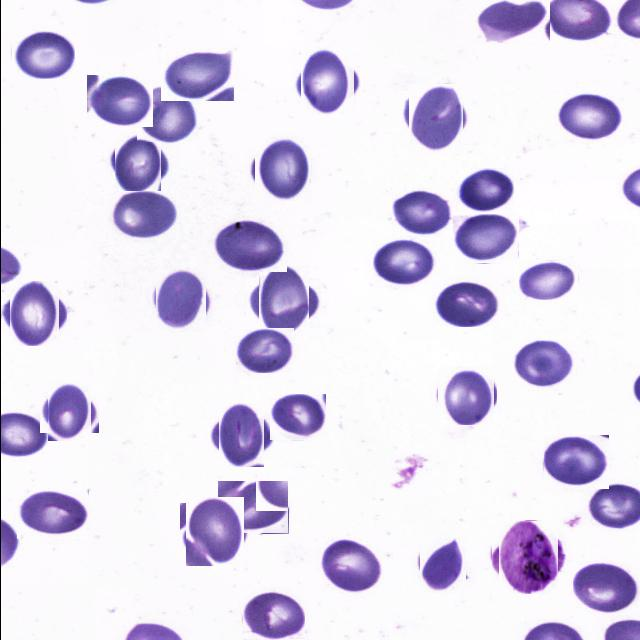red blood cell: (182, 500, 246, 564), (404, 87, 466, 150), (160, 48, 233, 101), (252, 272, 314, 334), (296, 51, 358, 113), (316, 538, 382, 596), (214, 219, 286, 272), (251, 137, 312, 199), (217, 481, 288, 534), (572, 561, 640, 616), (554, 92, 626, 143), (16, 490, 88, 539), (543, 435, 608, 489), (86, 75, 152, 127), (452, 212, 518, 264), (136, 86, 196, 142), (5, 284, 62, 342), (151, 272, 208, 330), (11, 26, 74, 78), (432, 278, 500, 326), (474, 0, 549, 43), (438, 367, 495, 423), (109, 191, 175, 238), (372, 238, 434, 288), (512, 340, 575, 389), (391, 187, 452, 236), (242, 591, 304, 639), (214, 408, 268, 462), (110, 136, 164, 190), (235, 328, 294, 374), (42, 385, 94, 437), (269, 394, 326, 441), (417, 540, 468, 592), (457, 168, 513, 214), (518, 261, 577, 300)
schizont: (494, 524, 561, 590)
